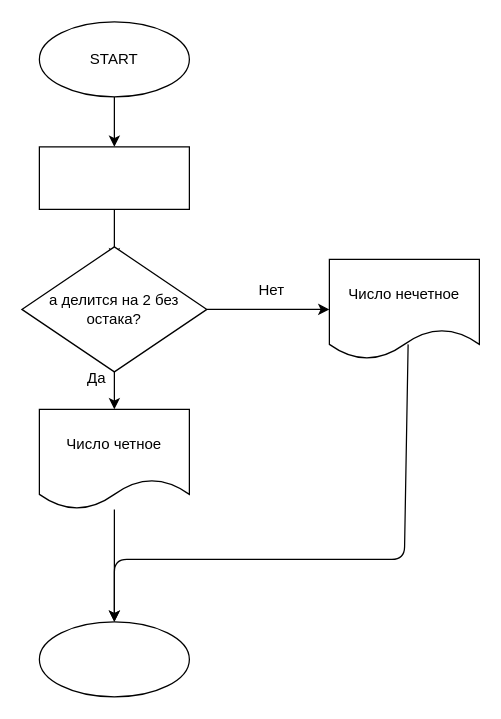
Some shapes in this 501 by 719 pixel diagram are drawn without their labels. Here are the shapes that lost their labels. From the top down, the centre of each, then its label:
At (113,177): "a = 4".
At (113,659): "END".
